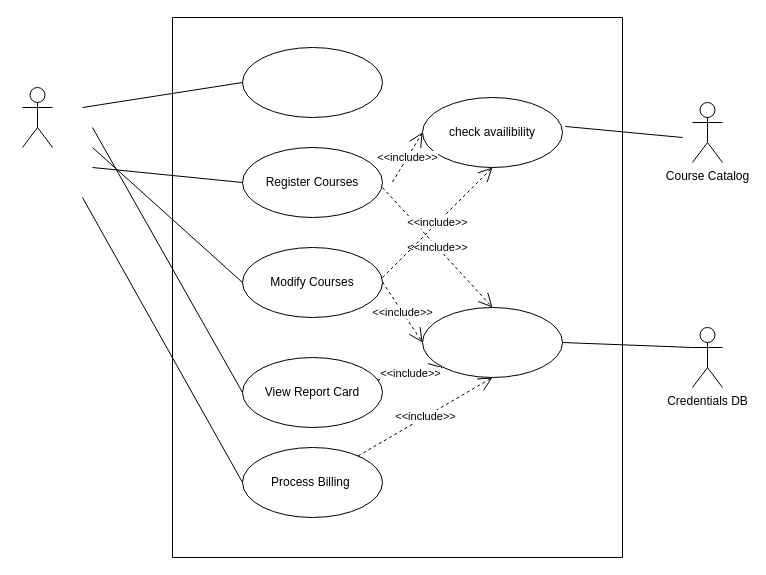
The diagram is 766 pixels wide and 575 high, and some of its shapes have lost their labels. The centre of each missing label's shape, as x and y in pixels:
Authorize: pixel 492 342
Student: pixel 37 117
View Course Catalog: pixel 312 82
